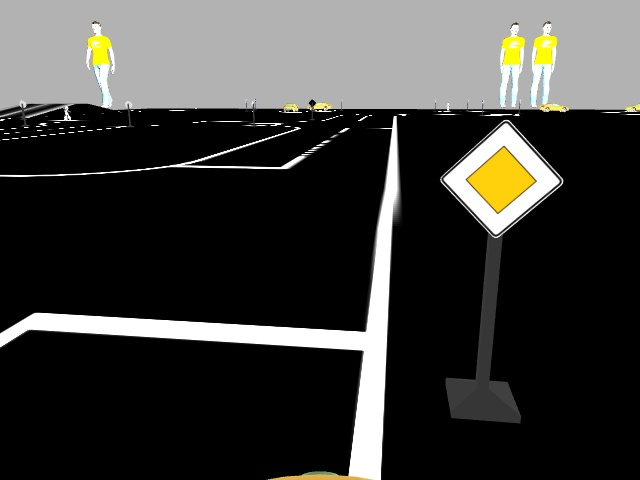Priority: (439, 120, 559, 237)
